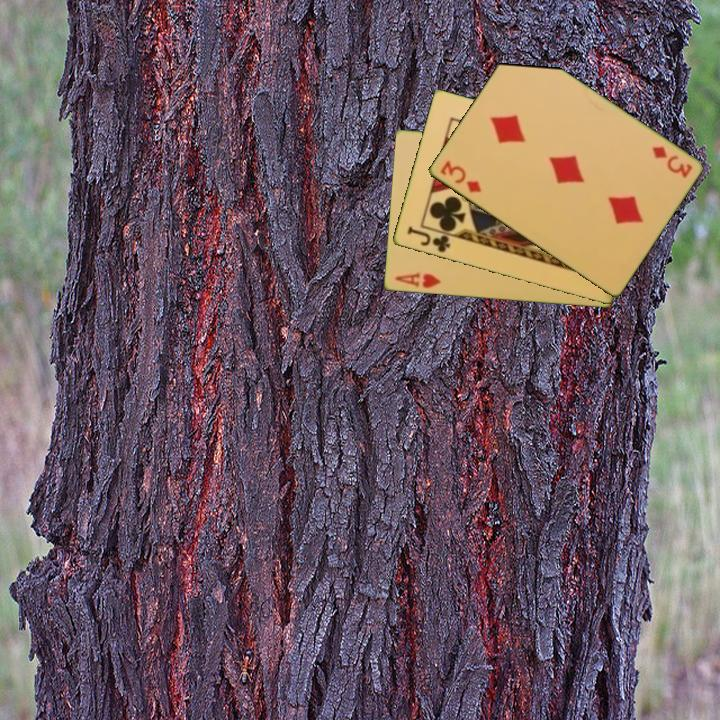3d: (436, 157, 484, 196), (648, 143, 695, 181)
Ah: (391, 269, 443, 291)
Jc: (403, 223, 453, 256)
